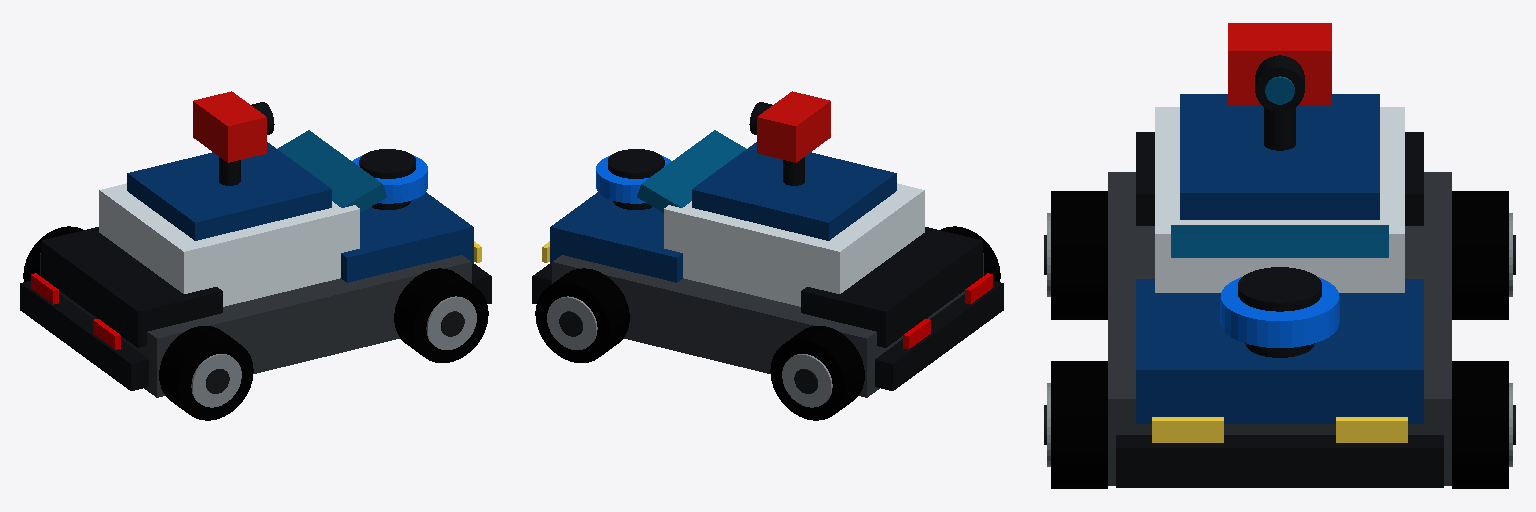
robot.urdf — mecanum_robot:
<?xml version='1.0' encoding='utf-8'?>
<robot name="mecanum_robot">
  <material name="body_blue">
    <color rgba="0.05 0.24 0.45 1.0" />
  </material>
  <material name="body_dark">
    <color rgba="0.08 0.09 0.10 1.0" />
  </material>
  <material name="body_graphite">
    <color rgba="0.23 0.25 0.27 1.0" />
  </material>
  <material name="roof_light">
    <color rgba="0.86 0.90 0.92 1.0" />
  </material>
  <material name="glass_blue">
    <color rgba="0.05 0.36 0.52 1.0" />
  </material>
  <material name="accent_orange">
    <color rgba="1.0 0.48 0.05 1.0" />
  </material>
  <material name="headlight">
    <color rgba="1.0 0.86 0.28 1.0" />
  </material>
  <material name="tail_light">
    <color rgba="0.9 0.02 0.02 1.0" />
  </material>
  <material name="wheel_black">
    <color rgba="0.02 0.02 0.02 1.0" />
  </material>
  <material name="wheel_rim">
    <color rgba="0.55 0.58 0.60 1.0" />
  </material>
  <material name="wheel_hub">
    <color rgba="0.12 0.13 0.14 1.0" />
  </material>
  <material name="lidar_blue">
    <color rgba="0.05 0.45 0.95 1.0" />
  </material>
  <material name="camera_red">
    <color rgba="0.82 0.08 0.06 1.0" />
  </material>
  <link name="base_footprint" />
  <joint name="base_joint" type="fixed">
    <parent link="base_footprint" />
    <child link="base_link" />
    <origin xyz="0 0 0.05052672" rpy="0 0 0" />
  </joint>
  <link name="base_link">
    <visual>
      <origin xyz="0 0 -0.01263168" rpy="0 0 0" />
      <geometry>
        <box size="0.273996 0.17558448 0.04926768" />
      </geometry>
      <material name="body_graphite" />
    </visual>
    <visual>
      <origin xyz="0.09207504 0 0.01768848" rpy="0 0 0" />
      <geometry>
        <box size="0.11025888 0.14652336 0.03032016" />
      </geometry>
      <material name="body_blue" />
    </visual>
    <visual>
      <origin xyz="-0.02274528 0 0.03661536" rpy="0 0 0" />
      <geometry>
        <box size="0.15347904 0.12759648 0.0581016" />
      </geometry>
      <material name="roof_light" />
    </visual>
    <visual>
      <origin xyz="-0.02274528 0 0.07199232" rpy="0 0 0" />
      <geometry>
        <box size="0.11936112 0.10231248 0.01768848" />
      </geometry>
      <material name="body_blue" />
    </visual>
    <visual>
      <origin xyz="0.05114592 0 0.06187872" rpy="0 -0.32 0" />
      <geometry>
        <box size="0.06138336 0.11116704 0.01263168" />
      </geometry>
      <material name="glass_blue" />
    </visual>
    <visual>
      <origin xyz="-0.10800912 0 0.01514976" rpy="0 0 0" />
      <geometry>
        <box size="0.0738912 0.14652336 0.03032016" />
      </geometry>
      <material name="body_dark" />
    </visual>
    <visual>
      <origin xyz="0.14893824 0 -0.01768848" rpy="0 0 0" />
      <geometry>
        <box size="0.01591344 0.16672992 0.02274528" />
      </geometry>
      <material name="body_dark" />
    </visual>
    <visual>
      <origin xyz="-0.14893824 0 -0.01768848" rpy="0 0 0" />
      <geometry>
        <box size="0.01591344 0.16672992 0.02274528" />
      </geometry>
      <material name="body_dark" />
    </visual>
    <visual>
      <origin xyz="0.15688464 0.0467496 0.00379776" rpy="0 0 0" />
      <geometry>
        <box size="0.0045408 0.03661536 0.01263168" />
      </geometry>
      <material name="headlight" />
    </visual>
    <visual>
      <origin xyz="0.15688464 -0.0467496 0.00379776" rpy="0 0 0" />
      <geometry>
        <box size="0.0045408 0.03661536 0.01263168" />
      </geometry>
      <material name="headlight" />
    </visual>
    <visual>
      <origin xyz="-0.15688464 0.0467496 0.00379776" rpy="0 0 0" />
      <geometry>
        <box size="0.0045408 0.03411792 0.011352" />
      </geometry>
      <material name="tail_light" />
    </visual>
    <visual>
      <origin xyz="-0.15688464 -0.0467496 0.00379776" rpy="0 0 0" />
      <geometry>
        <box size="0.0045408 0.03411792 0.011352" />
      </geometry>
      <material name="tail_light" />
    </visual>
    <collision>
      <origin xyz="0 0 -0.01263168" rpy="0 0 0" />
      <geometry>
        <box size="0.273996 0.17558448 0.04926768" />
      </geometry>
    </collision>
    <inertial>
      <origin xyz="0 0 0.00379776" rpy="0 0 0" />
      <mass value="15.0" />
      <inertia ixx="0.24" ixy="0" ixz="0" iyy="0.52" iyz="0" izz="0.72" />
    </inertial>
  </link>
  <joint name="lidar_joint" type="fixed">
    <parent link="base_link" />
    <child link="lidar_link" />
    <origin xyz="0.11482032 0 0.03283824" rpy="0 0 0" />
  </joint>
  <link name="lidar_link">
    <visual>
      <origin xyz="0 0 0.0050568" rpy="0 0 0" />
      <geometry>
        <cylinder radius="0.01768848" length="0.011352" />
      </geometry>
      <material name="body_dark" />
    </visual>
    <visual>
      <origin xyz="0 0 0.01894752" rpy="0 0 0" />
      <geometry>
        <cylinder radius="0.03032016" length="0.01514976" />
      </geometry>
      <material name="lidar_blue" />
    </visual>
    <visual>
      <origin xyz="0 0 0.03032016" rpy="0 0 0" />
      <geometry>
        <cylinder radius="0.0214656" length="0.0050568" />
      </geometry>
      <material name="body_dark" />
    </visual>
    <inertial>
      <origin xyz="0 0 0.01768848" rpy="0 0 0" />
      <mass value="0.20" />
      <inertia ixx="0.00012" ixy="0" ixz="0" iyy="0.00012" iyz="0" izz="0.00020" />
    </inertial>
  </link>
  <joint name="camera_mast_joint" type="fixed">
    <parent link="base_link" />
    <child link="camera_mast_link" />
    <origin xyz="-0.02274528 0 0.079464" rpy="0 0 0" />
  </joint>
  <link name="camera_mast_link">
    <visual>
      <origin xyz="0 0 0" rpy="0 0 0" />
      <geometry>
        <cylinder radius="0.008256" length="0.06192" />
      </geometry>
      <material name="body_dark" />
    </visual>
    <collision>
      <origin xyz="0 0 0" rpy="0 0 0" />
      <geometry>
        <cylinder radius="0.008256" length="0.06192" />
      </geometry>
    </collision>
    <inertial>
      <origin xyz="0 0 0" rpy="0 0 0" />
      <mass value="0.03" />
      <inertia ixx="0.00004" ixy="0" ixz="0" iyy="0.00004" iyz="0" izz="0.000001" />
    </inertial>
  </link>
  <joint name="camera_joint" type="fixed">
    <parent link="base_link" />
    <child link="camera_link" />
    <origin xyz="-0.02274528 0 0.125904" rpy="0 0 0" />
  </joint>
  <link name="camera_link">
    <visual>
      <origin xyz="0 0 0" rpy="0 0 0" />
      <geometry>
        <box size="0.03411792 0.0530448 0.03032016" />
      </geometry>
      <material name="camera_red" />
    </visual>
    <visual>
      <origin xyz="0.02400432 0 0" rpy="0 1.5708 0" />
      <geometry>
        <cylinder radius="0.01263168" length="0.01514976" />
      </geometry>
      <material name="body_dark" />
    </visual>
    <visual>
      <origin xyz="0.0315792 0 0" rpy="0 1.5708 0" />
      <geometry>
        <cylinder radius="0.00757488" length="0.00379776" />
      </geometry>
      <material name="glass_blue" />
    </visual>
    <inertial>
      <origin xyz="0 0 0" rpy="0 0 0" />
      <mass value="0.15" />
      <inertia ixx="0.00010" ixy="0" ixz="0" iyy="0.00004" iyz="0" izz="0.00010" />
    </inertial>
  </link>
  <joint name="front_left_steering_joint" type="revolute">
    <parent link="base_link" />
    <child link="front_left_steering_link" />
    <origin xyz="0.10231248 0.10231248 -0.01894752" rpy="0 0 0" />
    <axis xyz="0 0 0.8" />
    <limit lower="-0.85" upper="0.85" effort="10.0" velocity="4.0" />
    <dynamics damping="0.1" friction="0.0" />
  </joint>
  <link name="front_left_steering_link">
    <inertial>
      <origin xyz="0 0 0" rpy="0 0 0" />
      <mass value="0.05" />
      <inertia ixx="0.00002" ixy="0" ixz="0" iyy="0.00002" iyz="0" izz="0.00002" />
    </inertial>
  </link>
  <joint name="wheel_fl_joint" type="continuous">
    <parent link="front_left_steering_link" />
    <child link="wheel_fl_link" />
    <origin xyz="0 0 0" rpy="0 0 0" />
    <axis xyz="0 0.8 0" />
    <dynamics damping="0.02" friction="0.0" />
  </joint>
  <link name="wheel_fl_link">
    <visual>
      <origin xyz="0 0 0" rpy="1.5708 0 0" />
      <geometry>
        <cylinder radius="0.03283824" length="0.02906112" />
      </geometry>
      <material name="wheel_black" />
    </visual>
    <visual>
      <origin xyz="0 0 0" rpy="1.5708 0 0" />
      <geometry>
        <cylinder radius="0.0214656" length="0.03283824" />
      </geometry>
      <material name="wheel_rim" />
    </visual>
    <visual>
      <origin xyz="0 0 0" rpy="1.5708 0 0" />
      <geometry>
        <cylinder radius="0.0101136" length="0.03537696" />
      </geometry>
      <material name="wheel_hub" />
    </visual>
    <collision>
      <origin xyz="0 0 0" rpy="1.5708 0 0" />
      <geometry>
        <cylinder radius="0.03283824" length="0.02906112" />
      </geometry>
    </collision>
    <inertial>
      <origin xyz="0 0 0" rpy="0 0 0" />
      <mass value="0.45" />
      <inertia ixx="0.00055" ixy="0" ixz="0" iyy="0.00090" iyz="0" izz="0.00055" />
    </inertial>
  </link>
  <joint name="front_right_steering_joint" type="revolute">
    <parent link="base_link" />
    <child link="front_right_steering_link" />
    <origin xyz="0.10231248 -0.10231248 -0.01894752" rpy="0 0 0" />
    <axis xyz="0 0 0.8" />
    <limit lower="-0.85" upper="0.85" effort="10.0" velocity="4.0" />
    <dynamics damping="0.1" friction="0.0" />
  </joint>
  <link name="front_right_steering_link">
    <inertial>
      <origin xyz="0 0 0" rpy="0 0 0" />
      <mass value="0.05" />
      <inertia ixx="0.00002" ixy="0" ixz="0" iyy="0.00002" iyz="0" izz="0.00002" />
    </inertial>
  </link>
  <joint name="wheel_fr_joint" type="continuous">
    <parent link="front_right_steering_link" />
    <child link="wheel_fr_link" />
    <origin xyz="0 0 0" rpy="0 0 0" />
    <axis xyz="0 0.8 0" />
    <dynamics damping="0.02" friction="0.0" />
  </joint>
  <link name="wheel_fr_link">
    <visual>
      <origin xyz="0 0 0" rpy="1.5708 0 0" />
      <geometry>
        <cylinder radius="0.03283824" length="0.02906112" />
      </geometry>
      <material name="wheel_black" />
    </visual>
    <visual>
      <origin xyz="0 0 0" rpy="1.5708 0 0" />
      <geometry>
        <cylinder radius="0.0214656" length="0.03283824" />
      </geometry>
      <material name="wheel_rim" />
    </visual>
    <visual>
      <origin xyz="0 0 0" rpy="1.5708 0 0" />
      <geometry>
        <cylinder radius="0.0101136" length="0.03537696" />
      </geometry>
      <material name="wheel_hub" />
    </visual>
    <collision>
      <origin xyz="0 0 0" rpy="1.5708 0 0" />
      <geometry>
        <cylinder radius="0.03283824" length="0.02906112" />
      </geometry>
    </collision>
    <inertial>
      <origin xyz="0 0 0" rpy="0 0 0" />
      <mass value="0.45" />
      <inertia ixx="0.00055" ixy="0" ixz="0" iyy="0.00090" iyz="0" izz="0.00055" />
    </inertial>
  </link>
  <joint name="wheel_rl_joint" type="continuous">
    <parent link="base_link" />
    <child link="wheel_rl_link" />
    <origin xyz="-0.10231248 0.10231248 -0.01894752" rpy="0 0 0" />
    <axis xyz="0 0.8 0" />
    <dynamics damping="0.02" friction="0.0" />
  </joint>
  <link name="wheel_rl_link">
    <visual>
      <origin xyz="0 0 0" rpy="1.5708 0 0" />
      <geometry>
        <cylinder radius="0.03283824" length="0.02906112" />
      </geometry>
      <material name="wheel_black" />
    </visual>
    <visual>
      <origin xyz="0 0 0" rpy="1.5708 0 0" />
      <geometry>
        <cylinder radius="0.0214656" length="0.03283824" />
      </geometry>
      <material name="wheel_rim" />
    </visual>
    <visual>
      <origin xyz="0 0 0" rpy="1.5708 0 0" />
      <geometry>
        <cylinder radius="0.0101136" length="0.03537696" />
      </geometry>
      <material name="wheel_hub" />
    </visual>
    <collision>
      <origin xyz="0 0 0" rpy="1.5708 0 0" />
      <geometry>
        <cylinder radius="0.03283824" length="0.02906112" />
      </geometry>
    </collision>
    <inertial>
      <origin xyz="0 0 0" rpy="0 0 0" />
      <mass value="0.45" />
      <inertia ixx="0.00055" ixy="0" ixz="0" iyy="0.00090" iyz="0" izz="0.00055" />
    </inertial>
  </link>
  <joint name="wheel_rr_joint" type="continuous">
    <parent link="base_link" />
    <child link="wheel_rr_link" />
    <origin xyz="-0.10231248 -0.10231248 -0.01894752" rpy="0 0 0" />
    <axis xyz="0 0.8 0" />
    <dynamics damping="0.02" friction="0.0" />
  </joint>
  <link name="wheel_rr_link">
    <visual>
      <origin xyz="0 0 0" rpy="1.5708 0 0" />
      <geometry>
        <cylinder radius="0.03283824" length="0.02906112" />
      </geometry>
      <material name="wheel_black" />
    </visual>
    <visual>
      <origin xyz="0 0 0" rpy="1.5708 0 0" />
      <geometry>
        <cylinder radius="0.0214656" length="0.03283824" />
      </geometry>
      <material name="wheel_rim" />
    </visual>
    <visual>
      <origin xyz="0 0 0" rpy="1.5708 0 0" />
      <geometry>
        <cylinder radius="0.0101136" length="0.03537696" />
      </geometry>
      <material name="wheel_hub" />
    </visual>
    <collision>
      <origin xyz="0 0 0" rpy="1.5708 0 0" />
      <geometry>
        <cylinder radius="0.03283824" length="0.02906112" />
      </geometry>
    </collision>
    <inertial>
      <origin xyz="0 0 0" rpy="0 0 0" />
      <mass value="0.45" />
      <inertia ixx="0.00055" ixy="0" ixz="0" iyy="0.00090" iyz="0" izz="0.00055" />
    </inertial>
  </link>
</robot>

--- Render facts (derived) ---
Views: 3 orthographic renders of the robot side by side, from view 1: azimuth 30°, elevation 25°; view 2: azimuth 150°, elevation 25°; view 3: azimuth 270°, elevation 25°.
Robot: mecanum_robot — 11 links, 10 joints (2 revolute, 4 continuous, 4 fixed); root link base_footprint; default pose: all joints at 0.
Visible links, largest first — view 1: base_link, wheel_fr_link, wheel_rr_link, camera_link, lidar_link, wheel_rl_link, camera_mast_link; view 2: base_link, wheel_fl_link, wheel_rl_link, camera_link, lidar_link, wheel_rr_link, camera_mast_link; view 3: base_link, camera_link, lidar_link, wheel_rl_link, wheel_rr_link, wheel_fl_link, wheel_fr_link, camera_mast_link.
Link boxes in pixels (x1,y1,x2,y2): base_link: (20,130,491,397); wheel_fr_link: (394,268,488,362); wheel_rr_link: (159,326,253,420); camera_link: (193,91,274,162); lidar_link: (352,149,427,209); wheel_rl_link: (23,226,82,281); camera_mast_link: (219,157,240,185); base_link: (532,130,1003,397); wheel_fl_link: (535,268,629,362); wheel_rl_link: (770,326,864,420); camera_link: (749,91,830,162); lidar_link: (596,149,671,209); wheel_rr_link: (941,226,1000,281); camera_mast_link: (783,157,804,185); base_link: (1108,94,1451,487); camera_link: (1228,23,1331,111); lidar_link: (1220,267,1339,357); wheel_rl_link: (1452,191,1515,319); wheel_rr_link: (1044,191,1107,319); wheel_fl_link: (1452,361,1515,488); wheel_fr_link: (1044,361,1107,488); camera_mast_link: (1264,107,1295,150).
Size in the robot's own frame: 0.3183 by 0.24 by 0.1928 metres.
Geometry: primitives only (box / cylinder / sphere), no mesh files.
